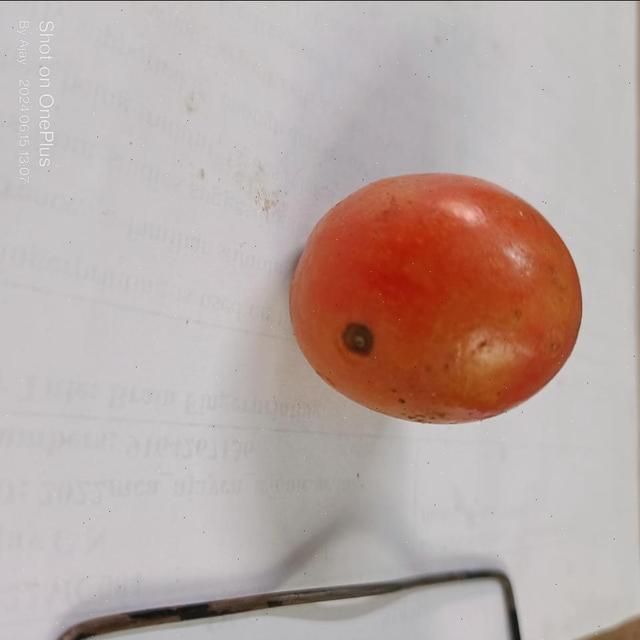Bacterial Spot Fruit: (228, 212, 251, 240)
